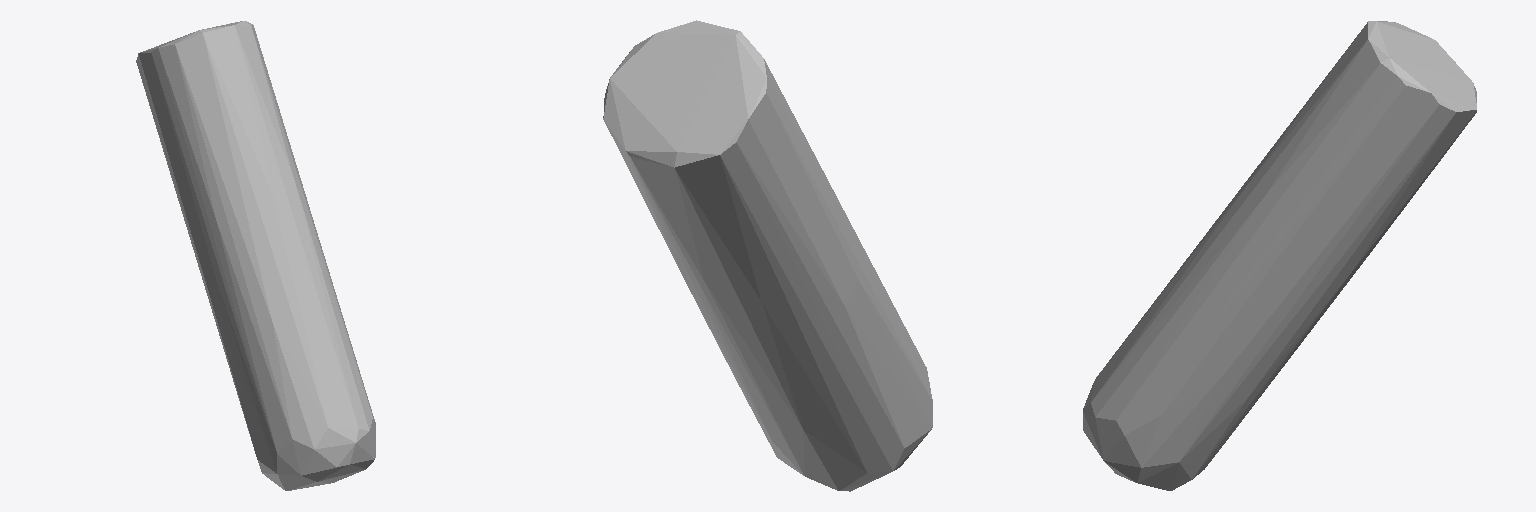
robot.urdf — root:
<robot name="root">
  <link name="link_thingiverse~screwdriver_handle_3195351_convex_piece_0">
    <inertial>
      <origin rpy="0 0 0" xyz="0 0 0"/>
      <mass value="2.42E-01"/>
      <inertia ixx="2.92E-04" ixy="-7.89E-07" ixz="-1.17E-06" iyy="2.06E-04" iyz="1.23E-04" izz="1.14E-04"/>
    </inertial>
    <visual>
      <origin rpy="0 0 0" xyz="0 0 0"/>
      <geometry>
        <mesh filename="thingiverse~screwdriver_handle_3195351_convex_piece_0.obj" scale="1.0000E+00 1.0000E+00 1.0000E+00"/>
      </geometry>
      <material name="">
        <color rgba="7.50E-01 7.50E-01 7.50E-01 1"/>
      </material>
    </visual>
    <collision>
      <origin rpy="0 0 0" xyz="0 0 0"/>
      <geometry>
        <mesh filename="thingiverse~screwdriver_handle_3195351_convex_piece_0.obj" scale="1.0000E+00 1.0000E+00 1.0000E+00"/>
      </geometry>
    </collision>
  </link>
</robot>

--- What the picture shows (computed from the rendered views, not written in the file) ---
The picture shows the robot from 3 angles, left to right: view 1: azimuth 30°, elevation 25°; view 2: azimuth 150°, elevation 25°; view 3: azimuth 270°, elevation 25°; orthographic projection.
Robot: root — 1 links, 0 joints (none); root link link_thingiverse~screwdriver_handle_3195351_convex_piece_0; default pose: all joints at 0.
Visible links, largest first — view 1: link_thingiverse~screwdriver_handle_3195351_convex_piece_0; view 2: link_thingiverse~screwdriver_handle_3195351_convex_piece_0; view 3: link_thingiverse~screwdriver_handle_3195351_convex_piece_0.
Link boxes in pixels (bbox=[...]): link_thingiverse~screwdriver_handle_3195351_convex_piece_0: bbox=[136, 21, 375, 490]; link_thingiverse~screwdriver_handle_3195351_convex_piece_0: bbox=[603, 20, 932, 491]; link_thingiverse~screwdriver_handle_3195351_convex_piece_0: bbox=[1083, 21, 1476, 490].
Bounding box of the posed robot: 0.0305 × 0.0869 × 0.1091 m (x, y, z).
1 mesh visuals loaded from 1 distinct referenced files (1 OBJ).
